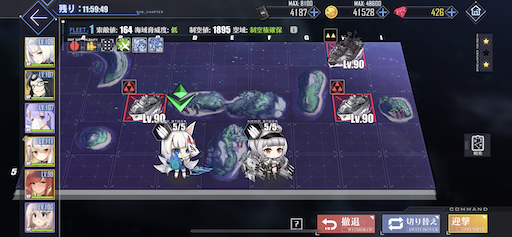lv2: (324, 27, 365, 68)
lv3: (327, 76, 373, 122), (118, 78, 162, 121)
